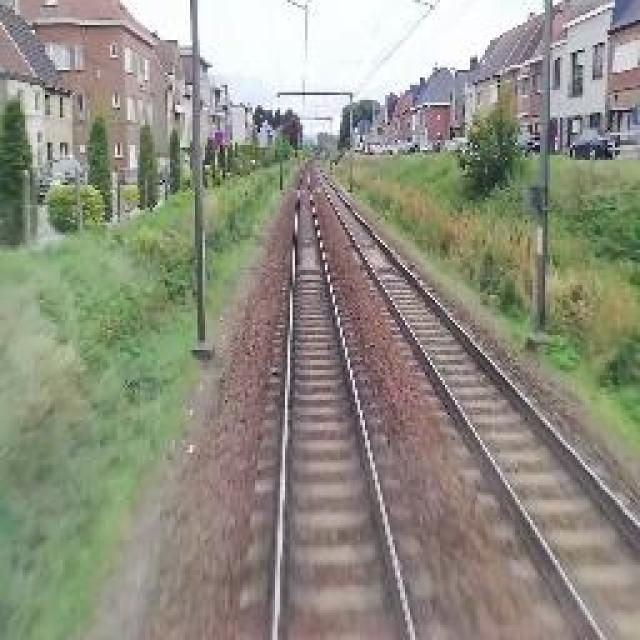rail: (252, 163, 445, 640)
